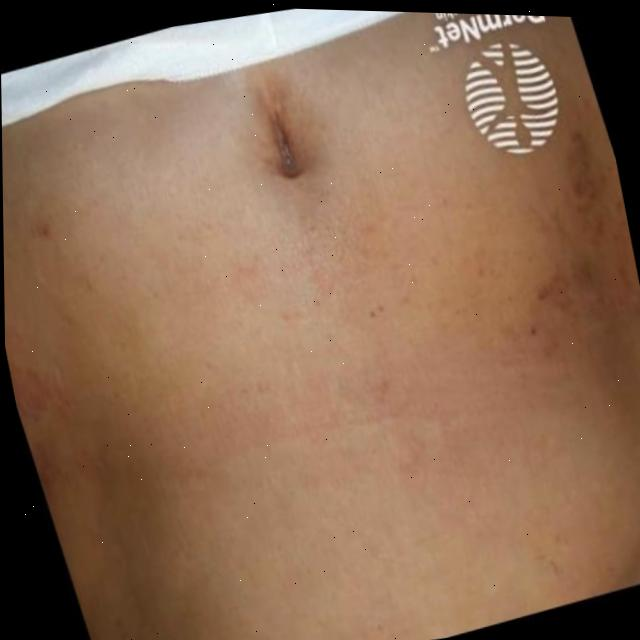Eczema: (492, 115, 619, 317), (5, 338, 80, 456)
